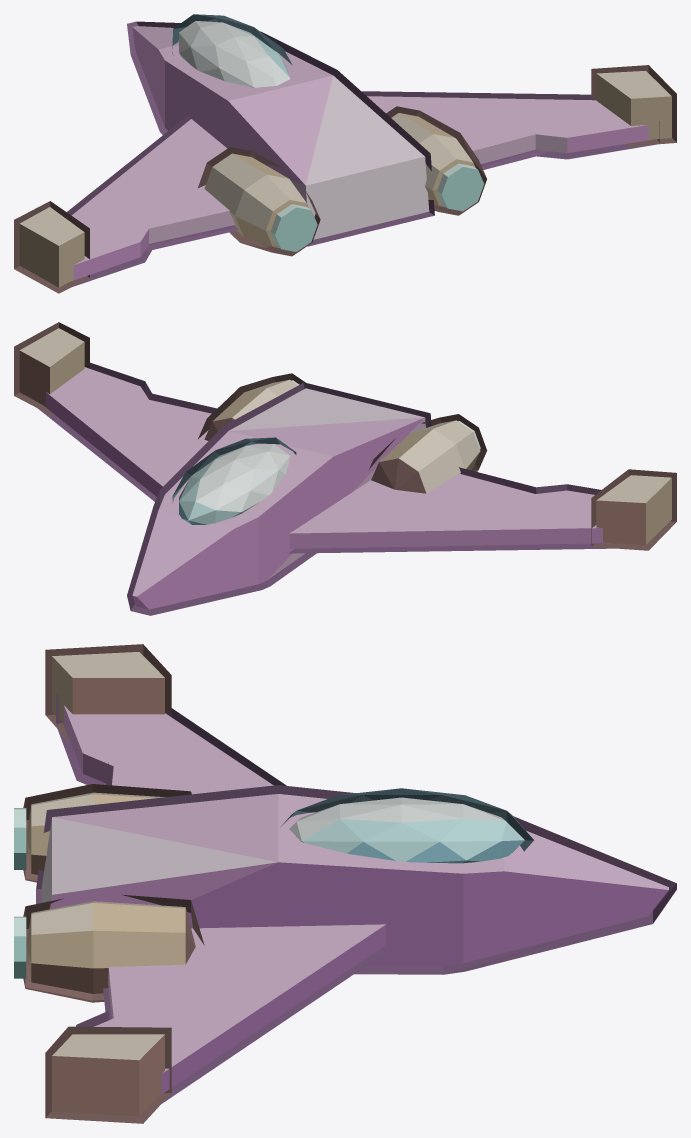
File: ship_air_kite_c2.glb
The picture shows the model from 3 angles, top to bottom: view 1: azimuth 30°, elevation 25°; view 2: azimuth 150°, elevation 25°; view 3: azimuth 270°, elevation 25°; orthographic projection. The views are drawn at different scales.
Parts seen in each view (by area): view 1: ship_air_kite_c2; view 2: ship_air_kite_c2; view 3: ship_air_kite_c2.
Boxes of the visible parts, x1,y1,x2,y2 form: ship_air_kite_c2: (14,14,676,293); ship_air_kite_c2: (14,322,676,615); ship_air_kite_c2: (14,644,676,1123).
Size of what is drawn, in the model's own units: 9.53 by 1.61 by 6.45.
